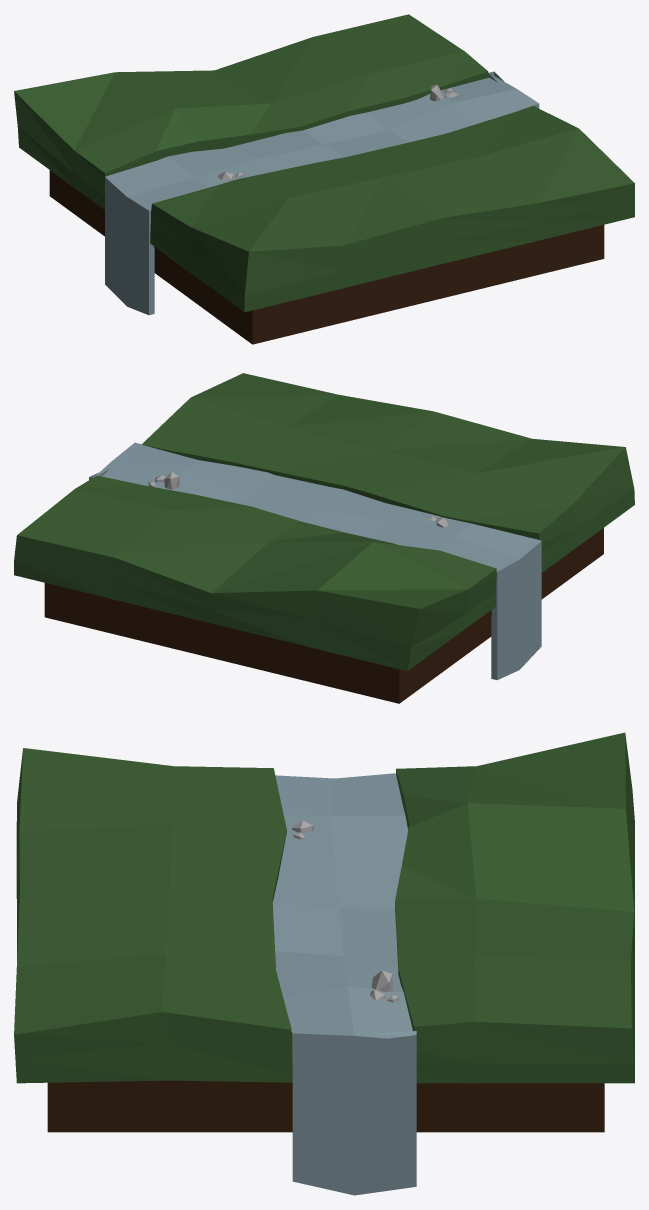
The model's file is terrain.obj.
The picture shows the model from 3 angles, top to bottom: view 1: azimuth 30°, elevation 25°; view 2: azimuth 150°, elevation 25°; view 3: azimuth 270°, elevation 25°; orthographic projection. The views are drawn at different scales.
Parts seen in each view (by area): view 1: Cube_texture; view 2: Cube_texture; view 3: Cube_texture.
Boxes of the visible parts, bbox=[...] form: Cube_texture: bbox=[14, 14, 634, 344]; Cube_texture: bbox=[14, 373, 634, 703]; Cube_texture: bbox=[14, 732, 634, 1195].
Size of the model in its own units: 6.89 by 2.29 by 6.69.
